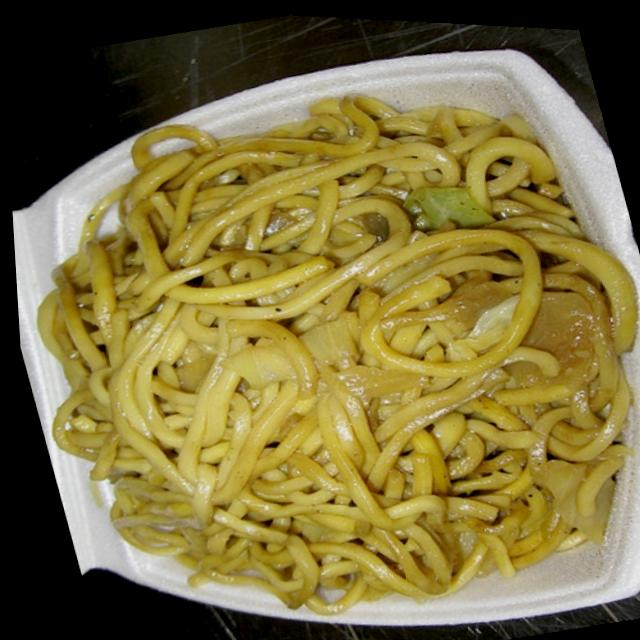面条主食: (1, 14, 640, 640)
